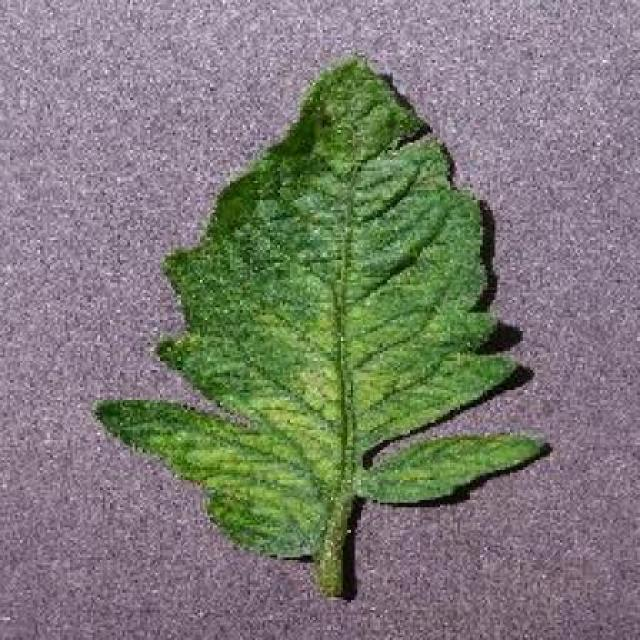Mosaic Virus: (93, 62, 548, 564)
